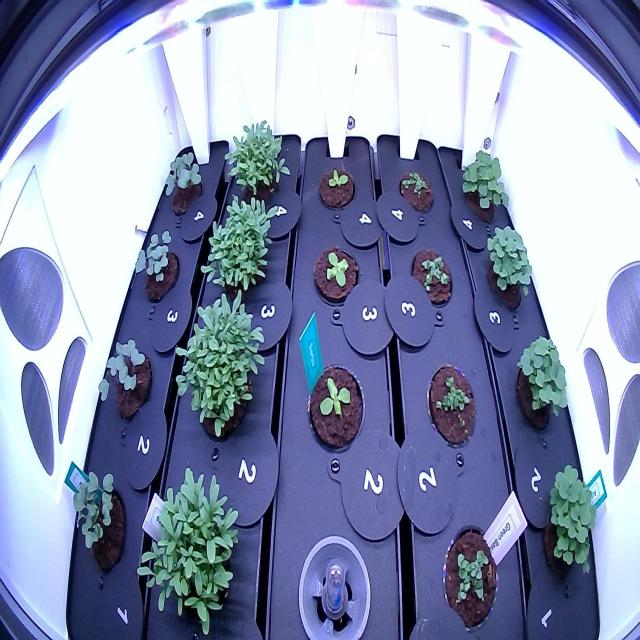germination: (438, 508, 500, 636), (422, 352, 479, 453), (407, 243, 458, 314), (396, 161, 436, 216), (316, 164, 357, 217)
young: (300, 358, 370, 461), (309, 240, 363, 310)
